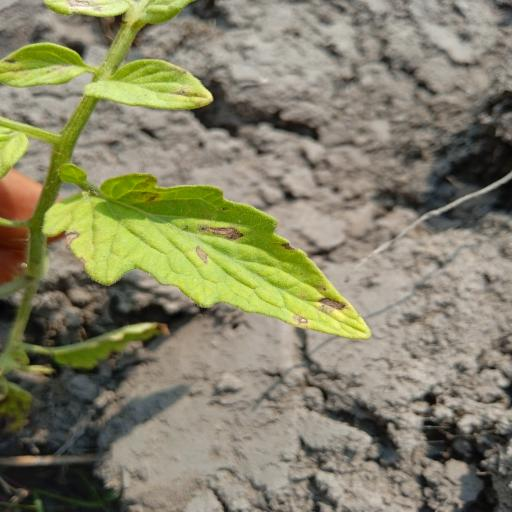Tomato_Brown_Spots: (23, 162, 380, 341)
